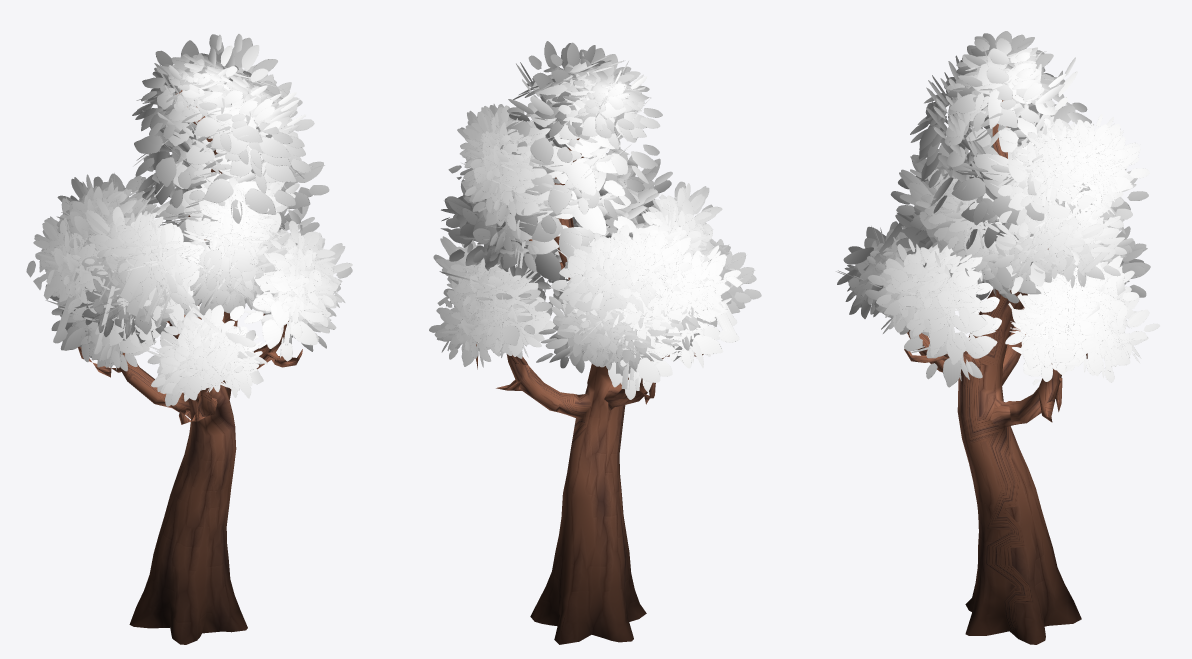
File: CommonTree_2.glb
3 views of the same model, side by side, from view 1: azimuth 30°, elevation 25°; view 2: azimuth 150°, elevation 25°; view 3: azimuth 270°, elevation 25° (orthographic). The views are drawn at different scales.
Visible parts, largest first — view 1: CommonTree_2; view 2: CommonTree_2; view 3: CommonTree_2.
Part boxes in pixels (bbox=[...]): CommonTree_2: bbox=[26, 34, 352, 644]; CommonTree_2: bbox=[429, 41, 761, 644]; CommonTree_2: bbox=[836, 31, 1159, 644].
Size of the model in its own units: 4.46 by 7.64 by 4.28.
Materials: 2 (2 with a texture image).
